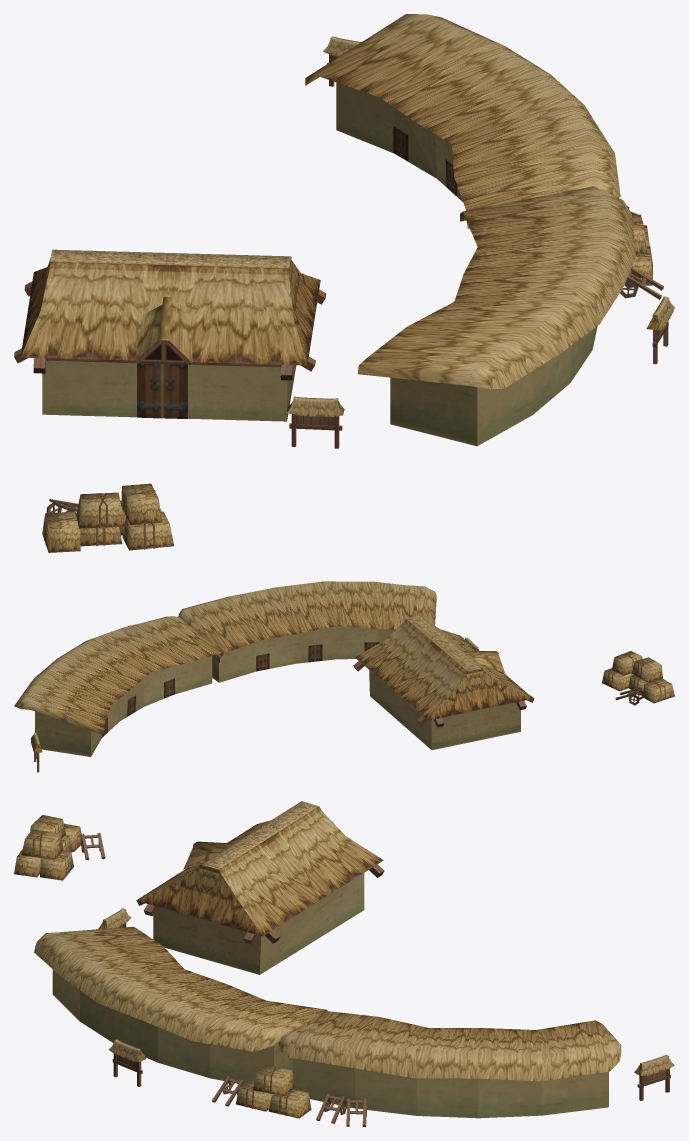
Rendered from Area_13_58.fbx.
The picture shows the model from 3 angles, top to bottom: view 1: azimuth 30°, elevation 25°; view 2: azimuth 150°, elevation 25°; view 3: azimuth 270°, elevation 25°; orthographic projection. The views are drawn at different scales.
Visible parts, largest first — view 1: Area_13_58; view 2: Area_13_58; view 3: Area_13_58.
Part boxes in pixels (bbox=[...]): Area_13_58: bbox=[14, 14, 674, 552]; Area_13_58: bbox=[14, 581, 674, 772]; Area_13_58: bbox=[14, 801, 674, 1126].
Bounding box in the file's own units: 4915 × 770 × 4699.
